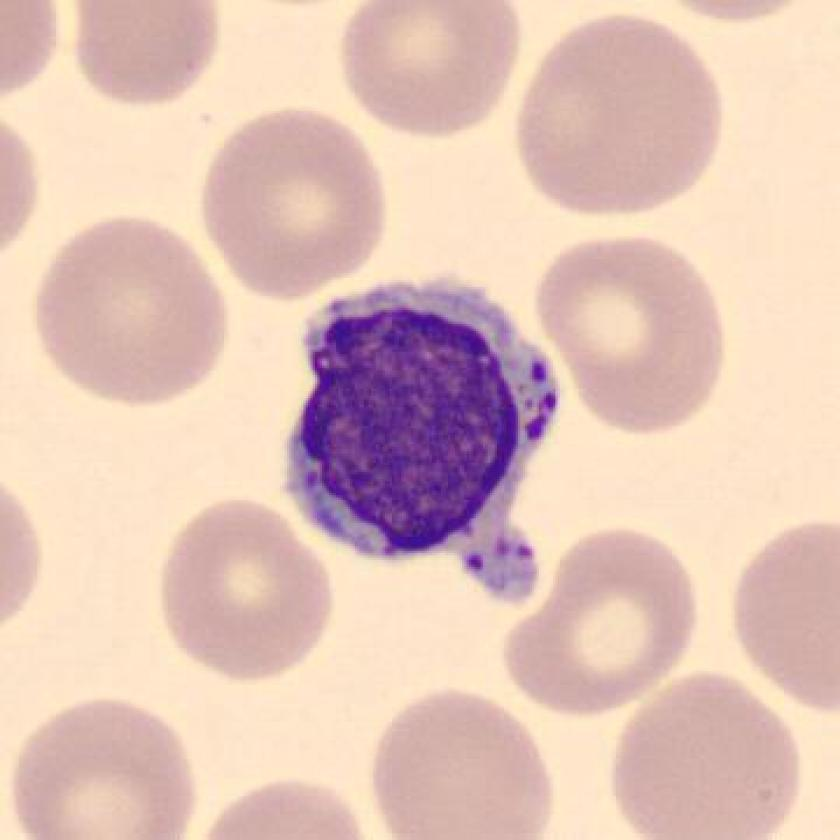lymphocyte: (274, 262, 577, 612)
